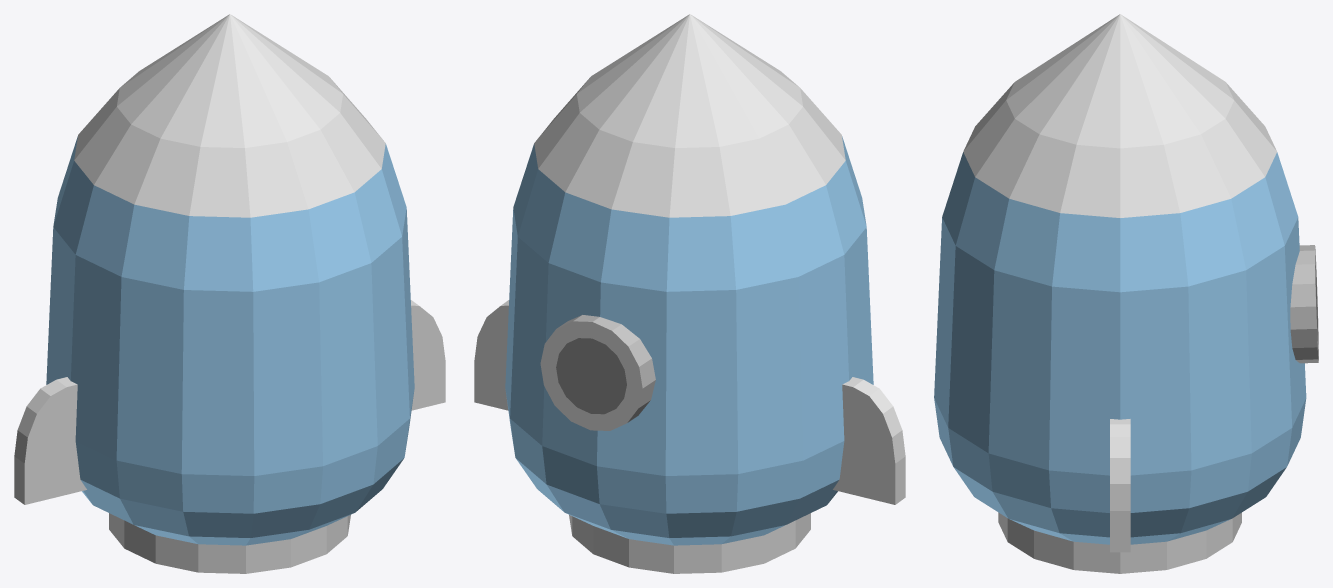
The model's file is Rocket.fbx.
3 views of the same model, side by side, from view 1: azimuth 30°, elevation 25°; view 2: azimuth 150°, elevation 25°; view 3: azimuth 270°, elevation 25° (orthographic).
Visible parts, largest first — view 1: Rocket; view 2: Rocket; view 3: Rocket.
Part boxes in pixels (x1=…): Rocket: x1=14, y1=14, x2=445, y2=573; Rocket: x1=474, y1=14, x2=905, y2=573; Rocket: x1=934, y1=14, x2=1318, y2=573.
Bounding box in the file's own units: 0.1106 × 0.1277 × 0.0876.
